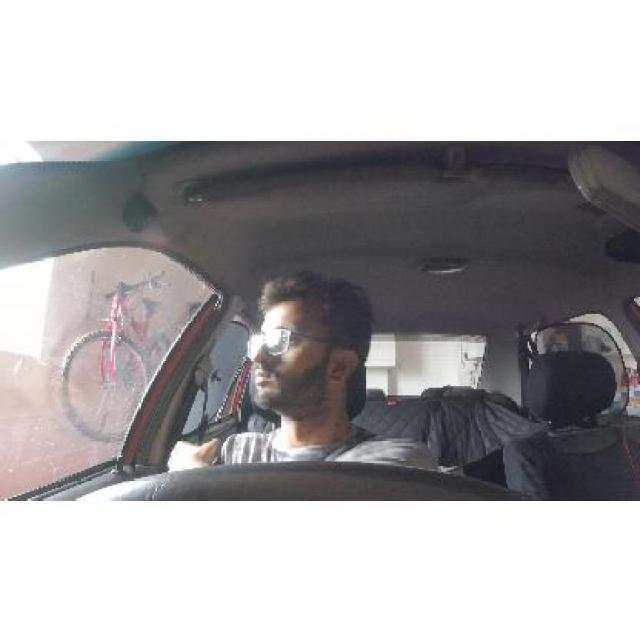LeftRight: (240, 269, 364, 410)
